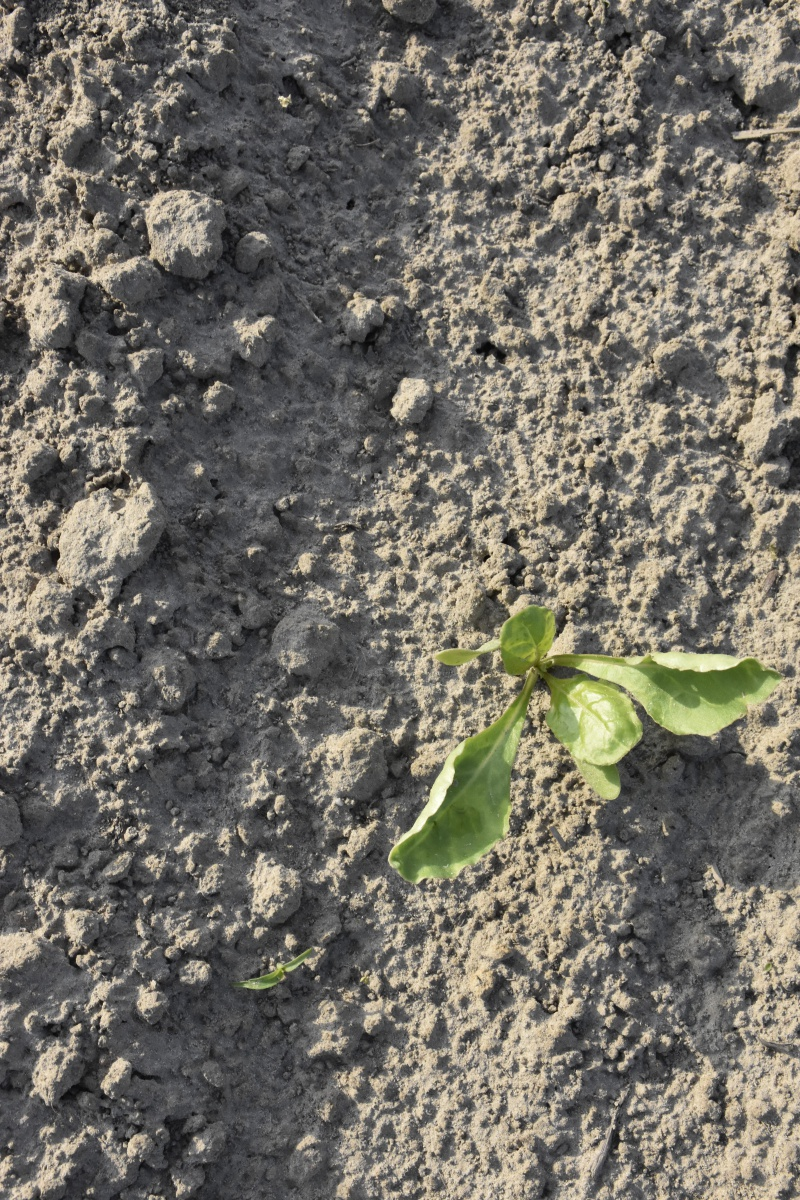sugar beet: (386, 602, 788, 902)
